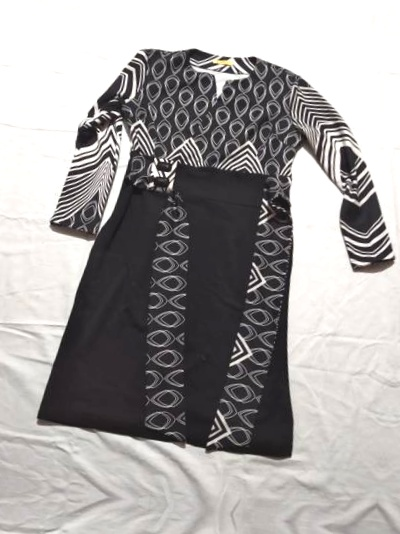Dress: (6, 15, 400, 490), (0, 0, 15, 436), (0, 523, 345, 534)
